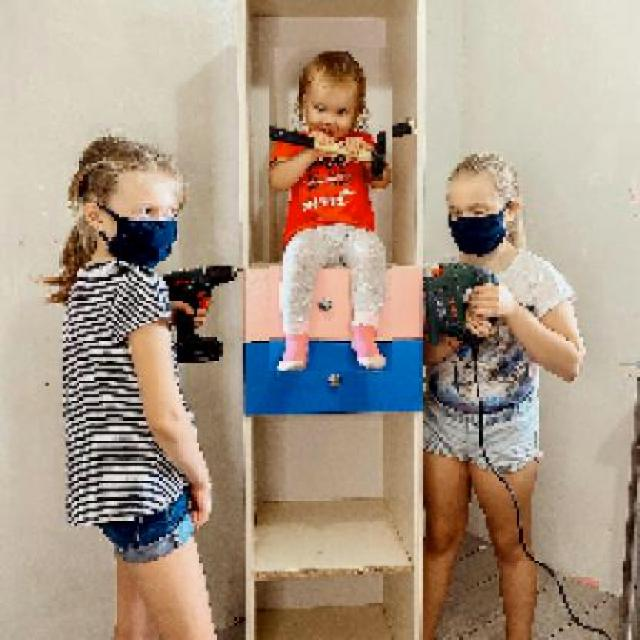child: (268, 48, 392, 372)
